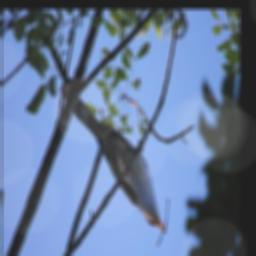Cuckoo: (73, 102, 168, 236)
